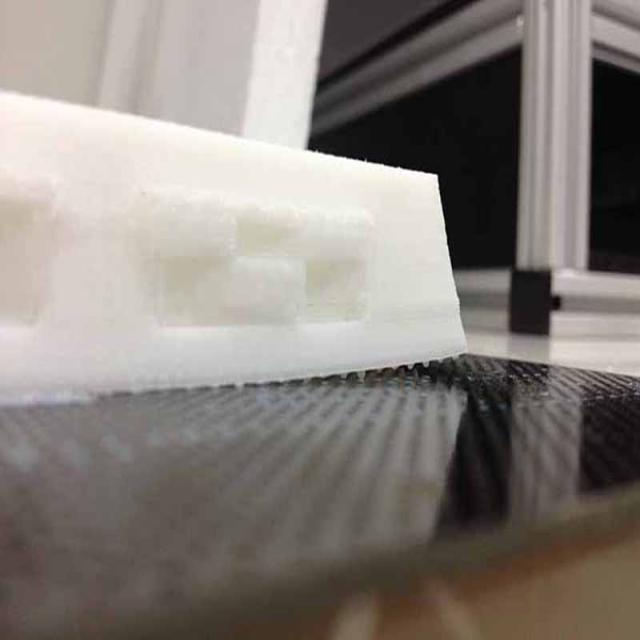Warping: (295, 318, 522, 432)
